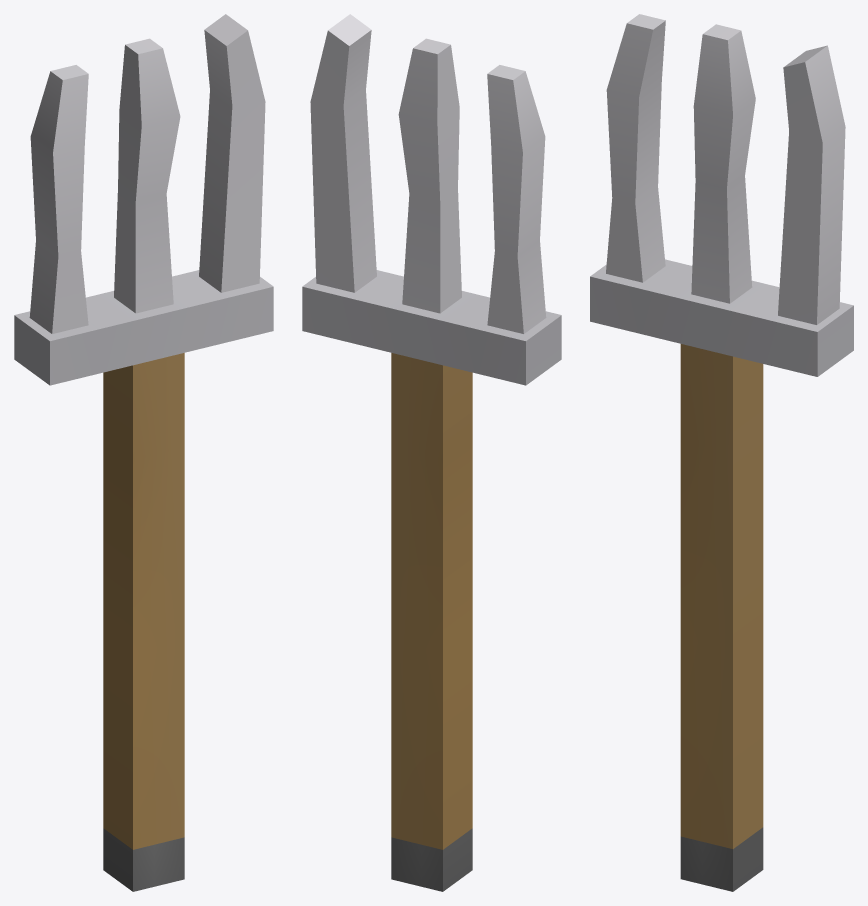
Rendered from Pike_01.fbx.
3 renders of one model, left to right at view 1: azimuth 30°, elevation 25°; view 2: azimuth 150°, elevation 25°; view 3: azimuth 330°, elevation 25°, orthographic.
Visible parts, largest first — view 1: Pike_01; view 2: Pike_01; view 3: Pike_01.
Part boxes in pixels (x1,y1,x2,y2): Pike_01: (14, 14, 273, 891); Pike_01: (302, 14, 561, 891); Pike_01: (590, 14, 853, 891).
Bounding box in the file's own units: 33.02 × 117 × 9.14.
1 material, 1 textured.
